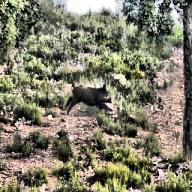boar: (64, 82, 112, 114)
